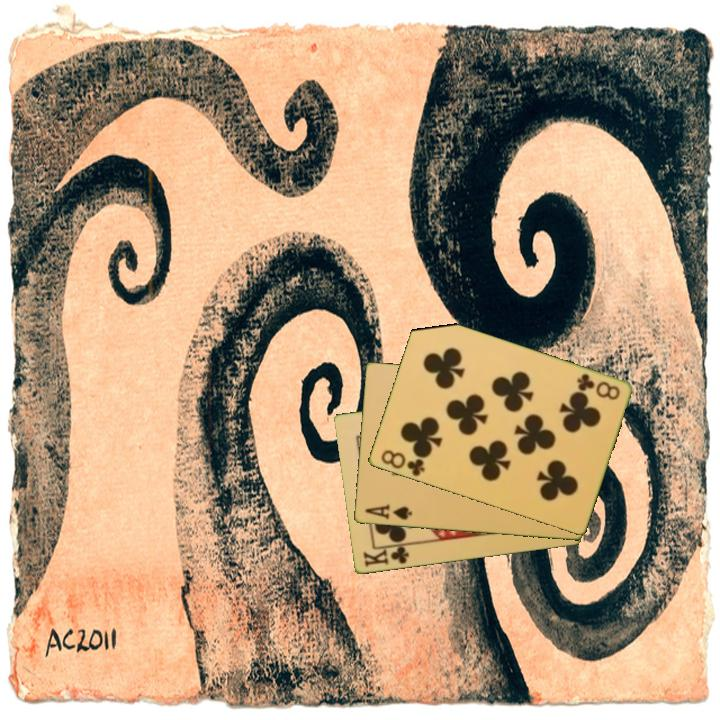8c: (377, 446, 427, 479), (573, 370, 623, 403)
As: (361, 501, 415, 523)
Kc: (360, 541, 413, 570)
